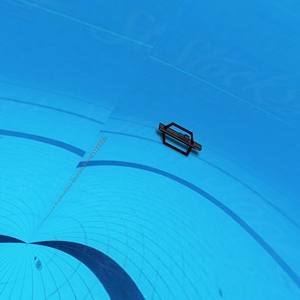submarine: (161, 117, 205, 158)
